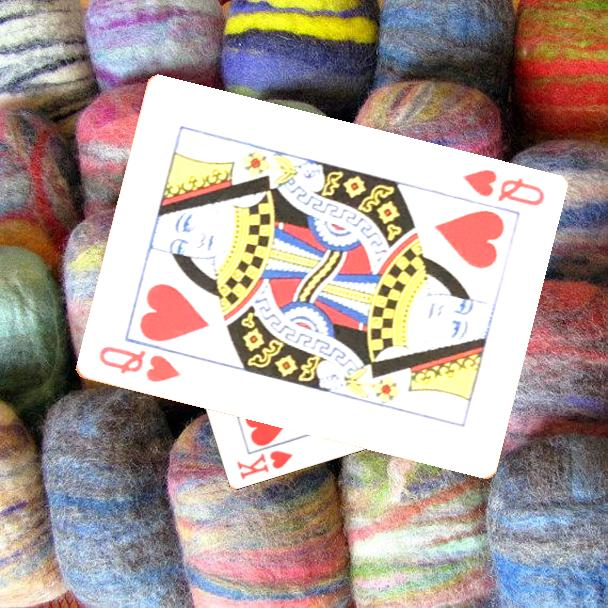h12: (458, 165, 547, 210), (94, 343, 183, 386)
h13: (233, 446, 296, 482)
